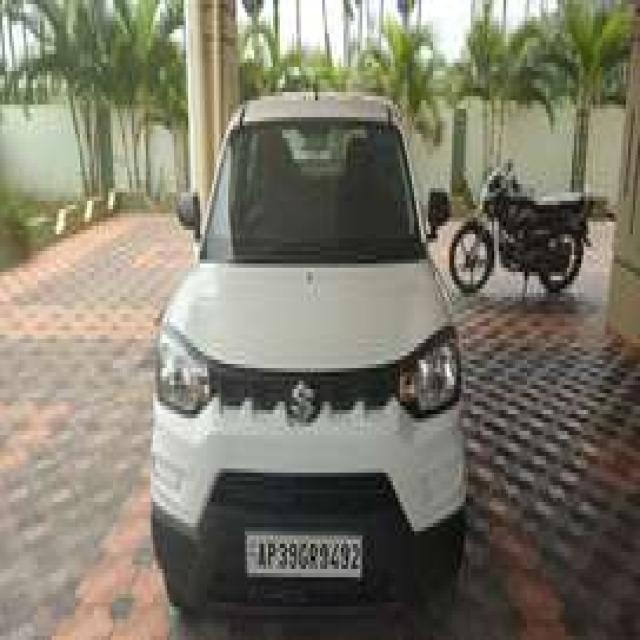licenseplate: (245, 531, 363, 575)
